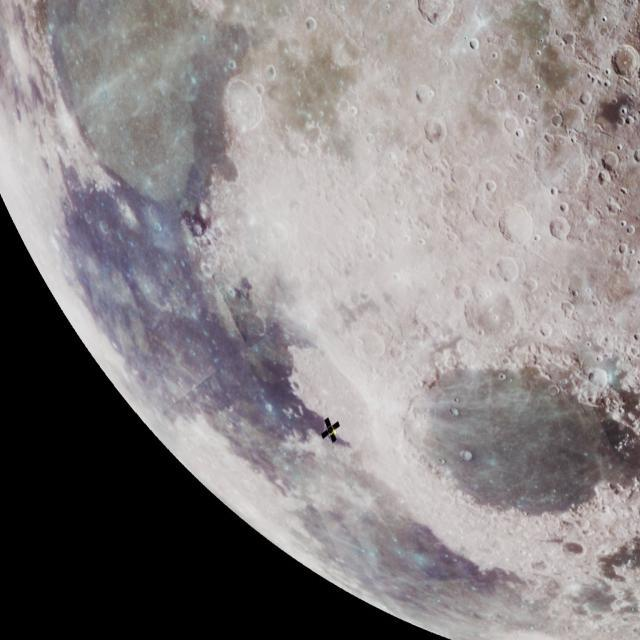satellite: (315, 409, 352, 446)
